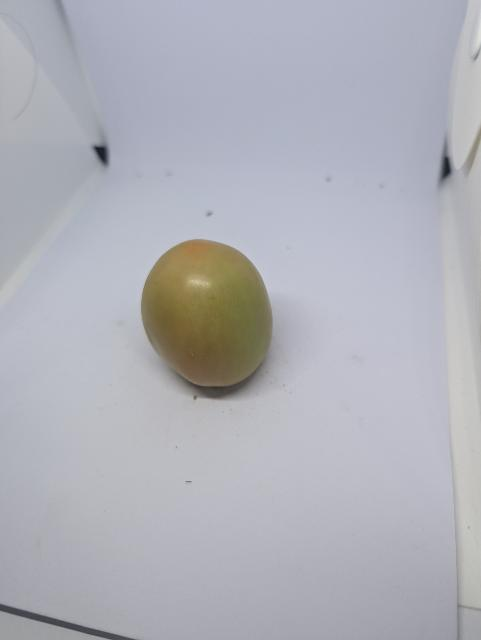breaker: (139, 236, 277, 391)
